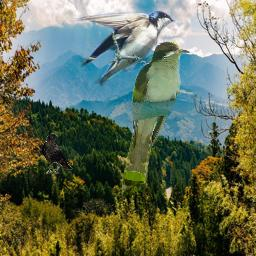Crow: (41, 133, 73, 174)
Cuckoo: (121, 41, 191, 197)
Swallow: (74, 9, 176, 87)
